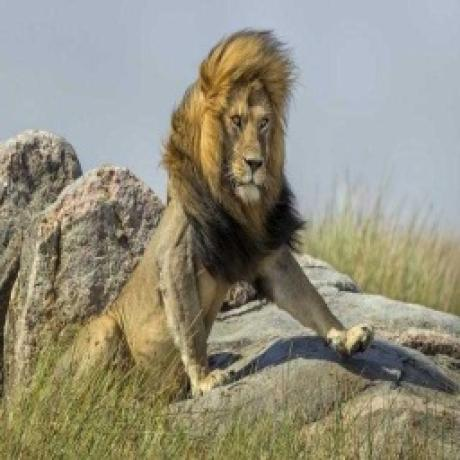Lion: (76, 26, 378, 400)
